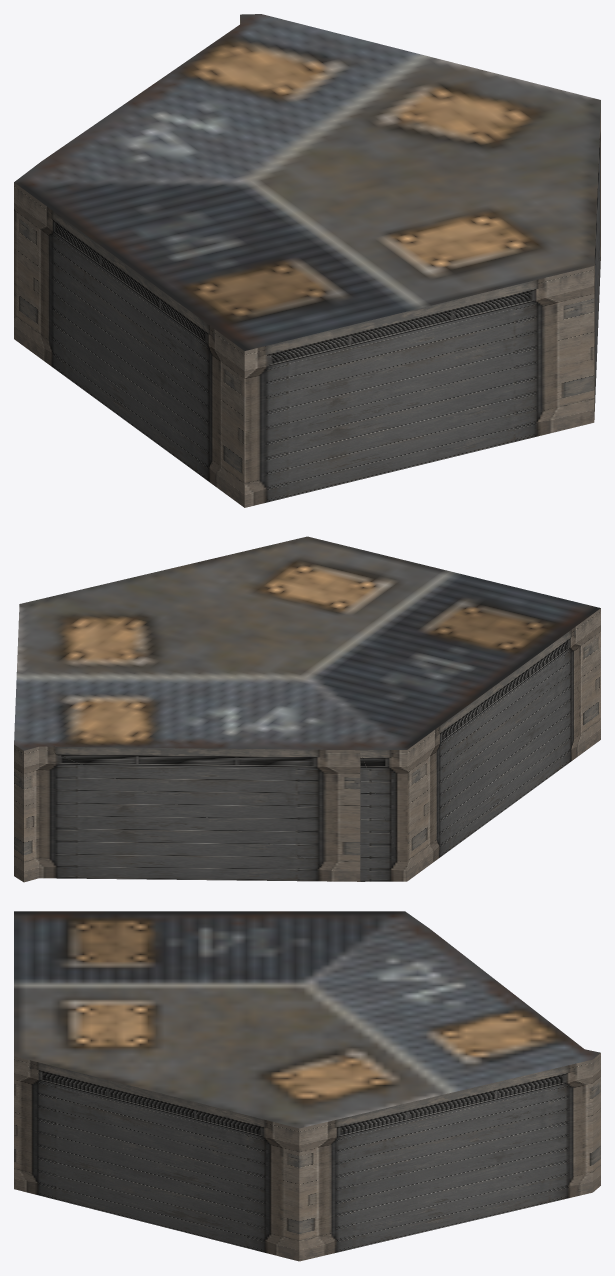
File: hangar_light_a_14.glb
3 views of the same model, one above another, from view 1: azimuth 30°, elevation 25°; view 2: azimuth 150°, elevation 25°; view 3: azimuth 270°, elevation 25° (orthographic). The views are drawn at different scales.
Visible parts, largest first — view 1: buildings/saxarba/hangar_light/hangar_light_a_14; view 2: buildings/saxarba/hangar_light/hangar_light_a_14; view 3: buildings/saxarba/hangar_light/hangar_light_a_14.
Part boxes in pixels (bbox=[...]): buildings/saxarba/hangar_light/hangar_light_a_14: bbox=[14, 14, 600, 507]; buildings/saxarba/hangar_light/hangar_light_a_14: bbox=[14, 536, 600, 882]; buildings/saxarba/hangar_light/hangar_light_a_14: bbox=[14, 911, 600, 1261].
Bounding box in the file's own units: 63 × 18 × 72.
